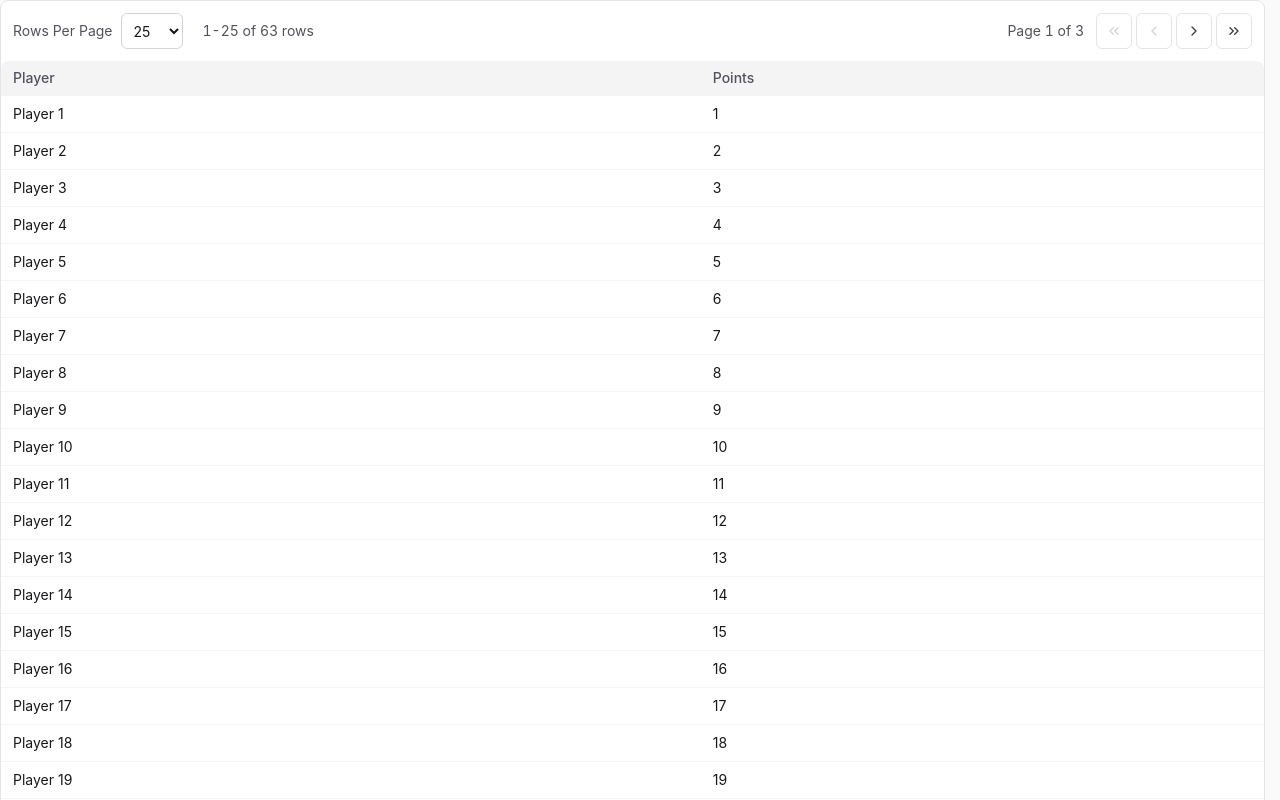
it: paginates with synchronised controls and correct boundary states
The width and height of the screenshot is (1280, 800).
Expected: the button named "First Page" is disabled, [1096,13,1132,49]
Expected: the button named "Previous Page" is disabled, [1136,13,1172,49]
Click the button named "Next Page" at point(1194, 31), box [1176,13,1212,49]
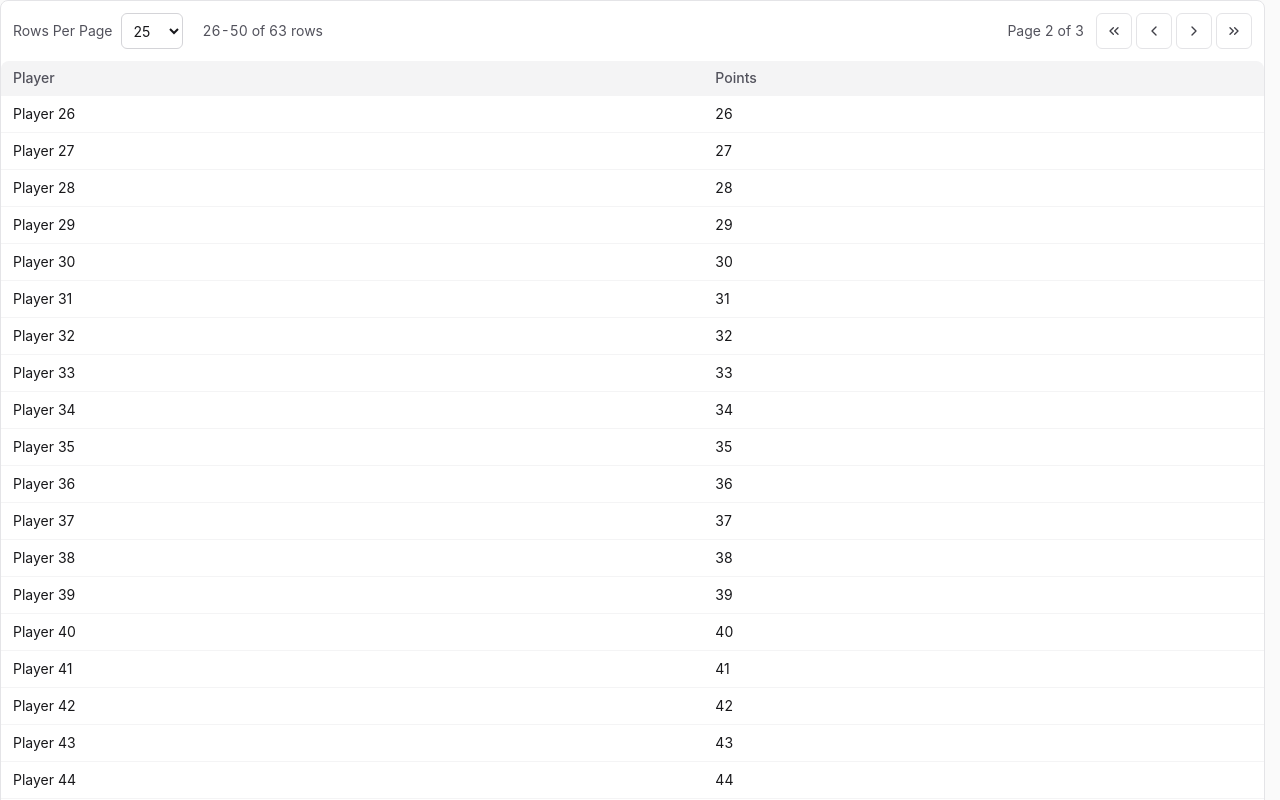
Result: the text "Player 26" is shown at [1,95,703,132]
Result: the text "Player 1" is gone
Click the button named "Last Page" at point(1234, 31), box [1216,13,1252,49]
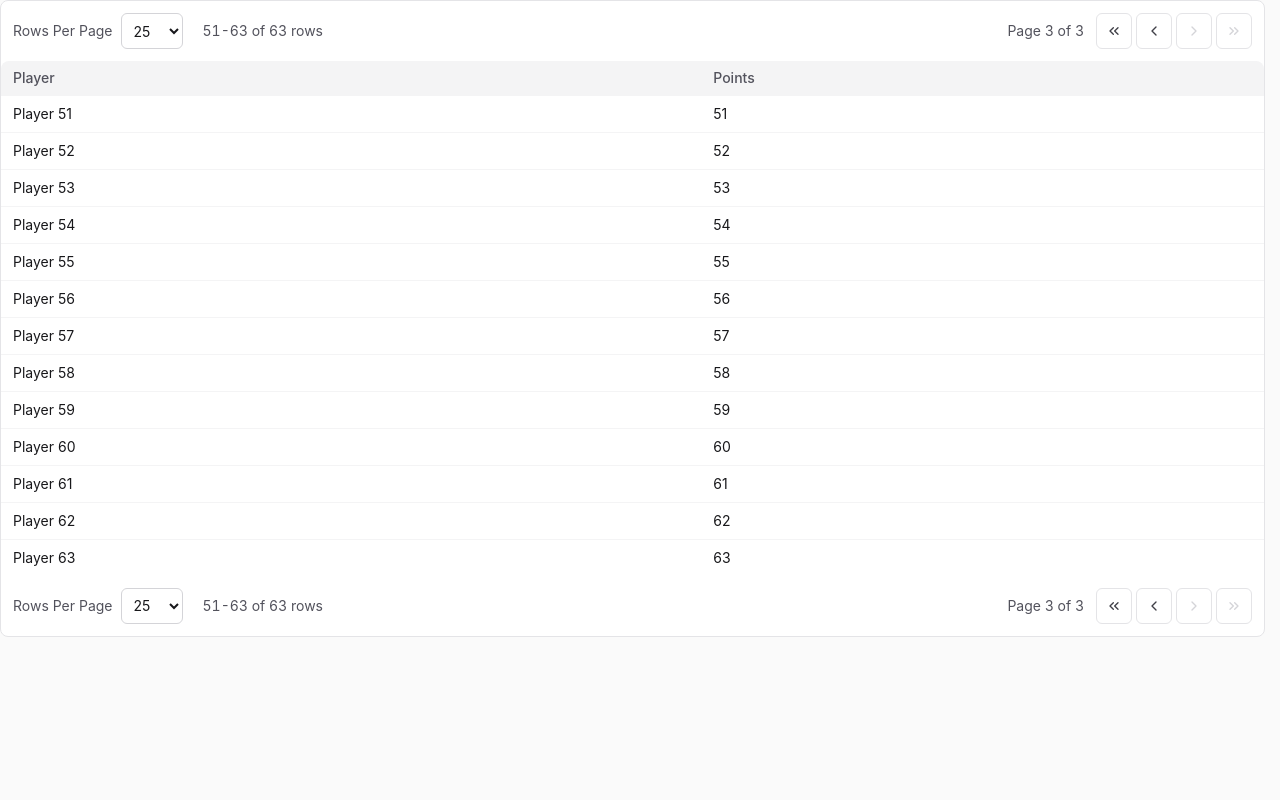
Expected: the text "51-63 of 63 rows" is shown 2 times, [202,21,323,41]; [202,596,323,616]
Result: the 1st button named "Last Page" is disabled at [1216,13,1252,49]
Click the 1st button named "Previous Page" at point(1154, 31), box [1136,13,1172,49]
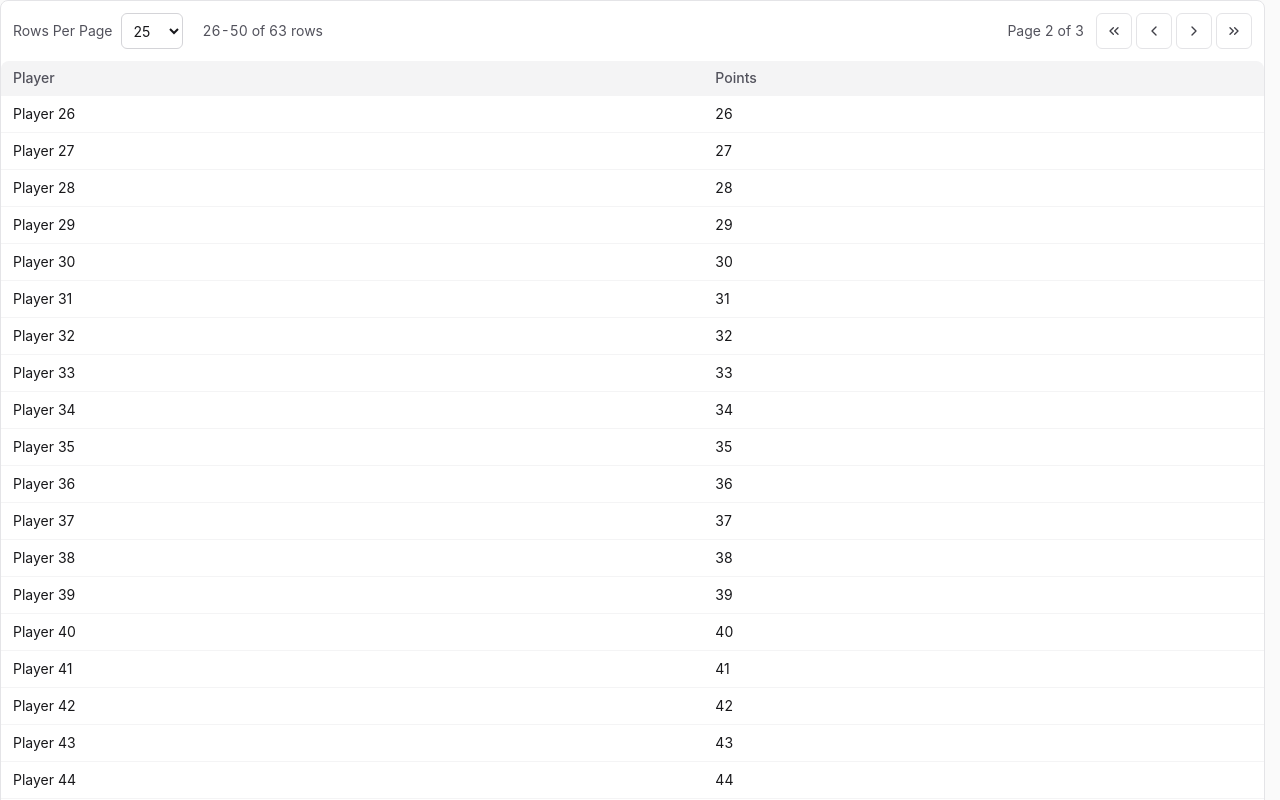
Result: the text "Player 26" is shown at [1,95,703,132]
Click the button named "First Page" at point(1114, 31), box [1096,13,1132,49]
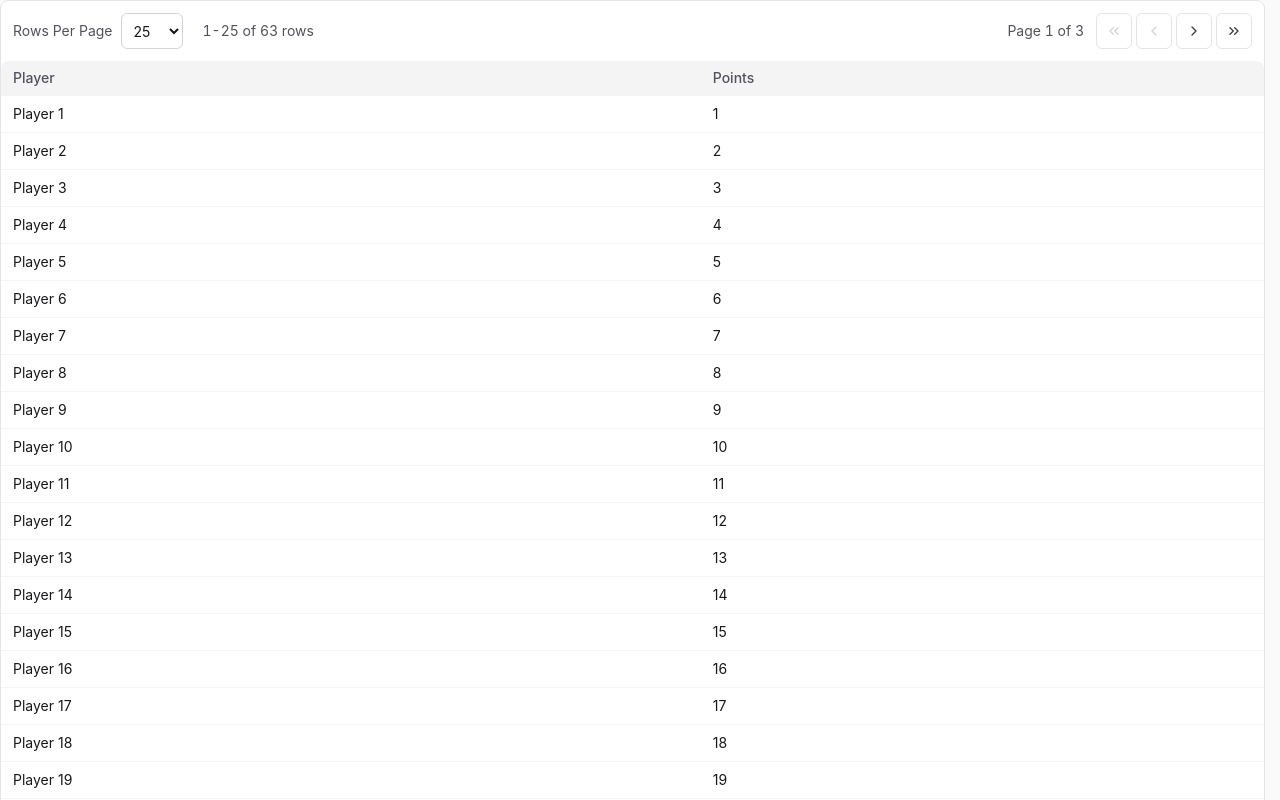
Result: the text "Player 1" is shown at [1,95,701,132]
